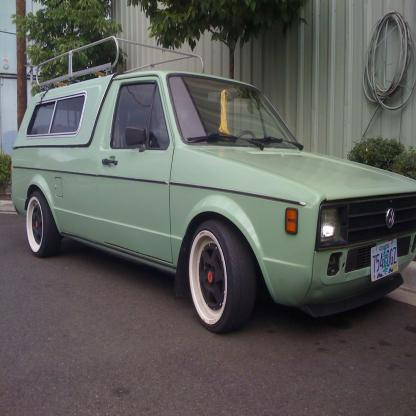Car: (11, 37, 416, 336)
